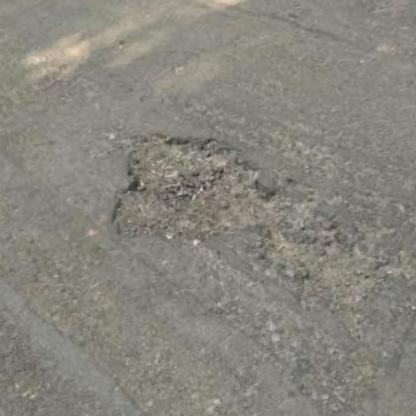pothole: (95, 109, 288, 269), (252, 210, 404, 323)
